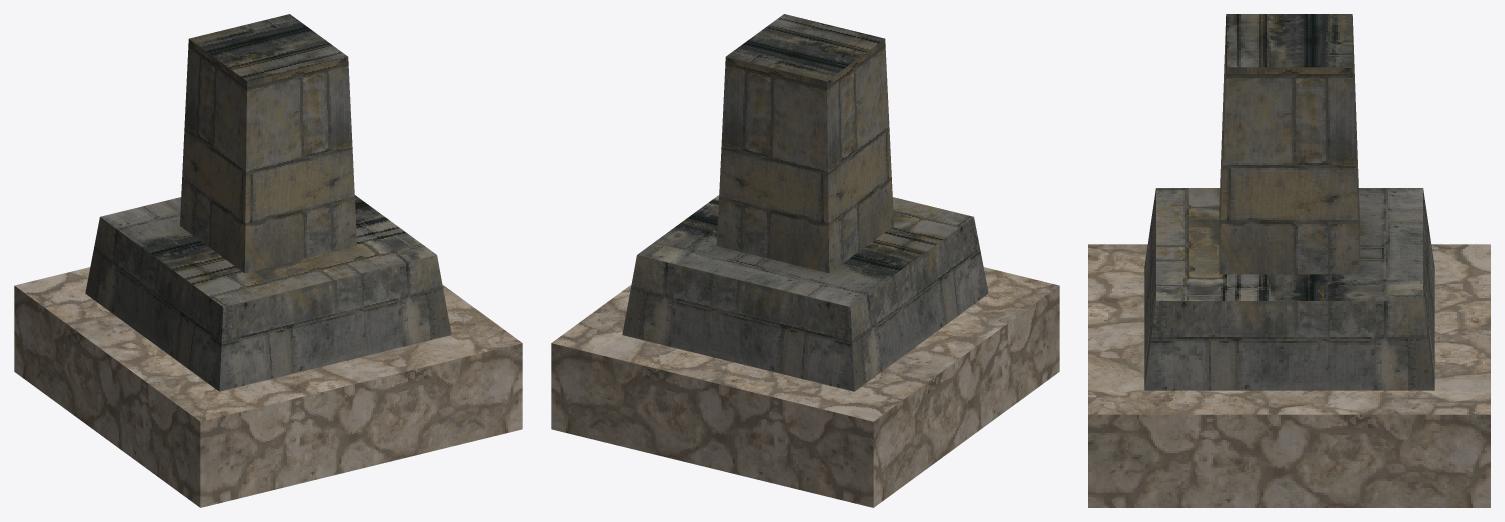
File: temple_statue_lingam.glb
The picture shows the model from 3 angles, left to right: view 1: azimuth 30°, elevation 25°; view 2: azimuth 150°, elevation 25°; view 3: azimuth 270°, elevation 25°; orthographic projection. The views are drawn at different scales.
Visible parts, largest first — view 1: temple_statue_lingam; view 2: temple_statue_lingam; view 3: temple_statue_lingam.
Part boxes in pixels (x1,y1,x2,y2): temple_statue_lingam: (14,14,522,507); temple_statue_lingam: (551,14,1059,507); temple_statue_lingam: (1088,14,1490,507).
Size of the model in its own units: 0.86 by 0.9 by 0.86.
2 materials, 2 textured.
